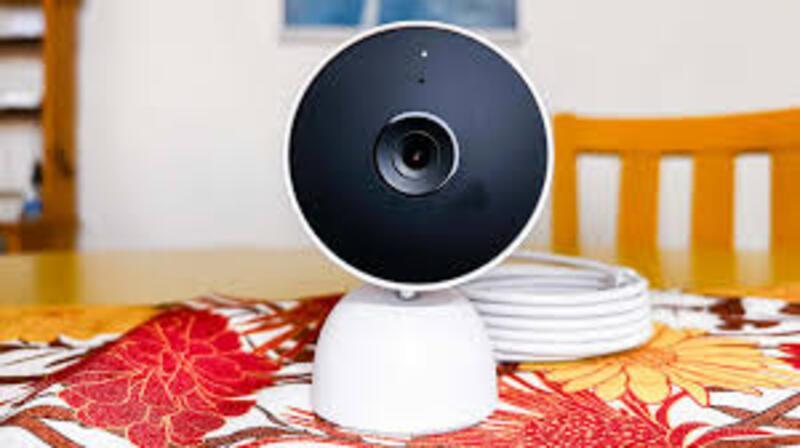nest: (274, 27, 558, 299)
